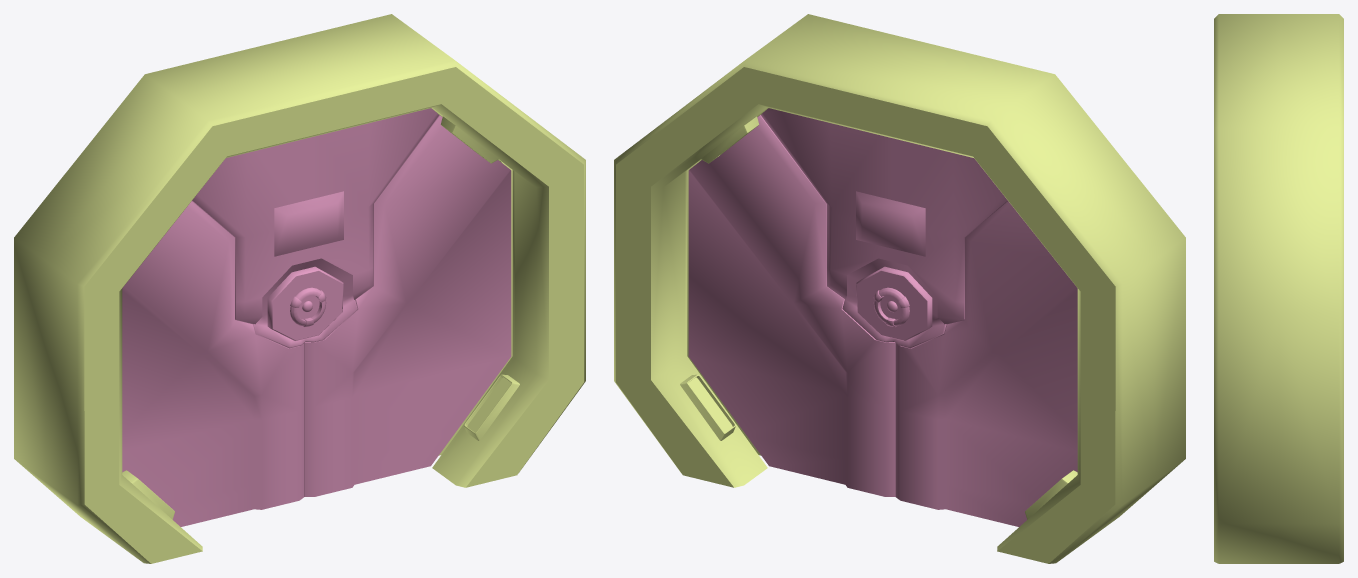
The model's file is Door.FBX.
The picture shows the model from 3 angles, left to right: view 1: azimuth 30°, elevation 25°; view 2: azimuth 150°, elevation 25°; view 3: azimuth 270°, elevation 25°; orthographic projection. The views are drawn at different scales.
Parts seen in each view (by area): view 1: Door_Frame001; view 2: Door_Frame001; view 3: Door_Frame001.
Boxes of the visible parts, left/top/right/bottom form: Door_Frame001: left=14, top=14, right=585, bottom=563; Door_Frame001: left=614, top=14, right=1185, bottom=563; Door_Frame001: left=1214, top=14, right=1343, bottom=563.
Bounding box in the file's own units: 329 × 264 × 76.65.
